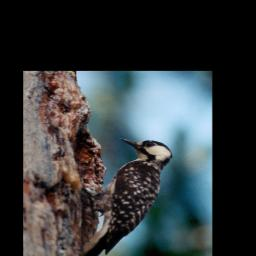Woodpecker: (74, 135, 184, 256)
